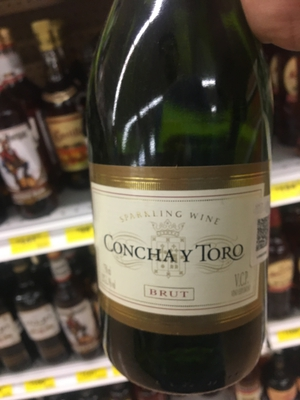brut: (85, 18, 278, 386)
